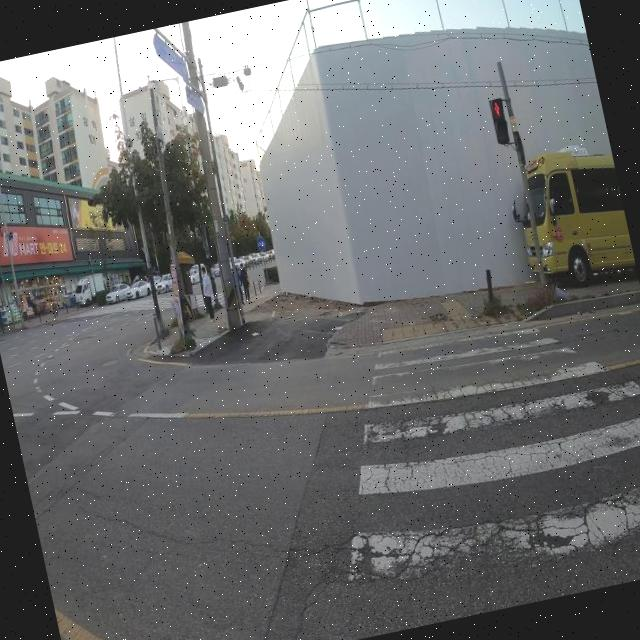crosswalk: (337, 325, 640, 639), (59, 292, 253, 319)
